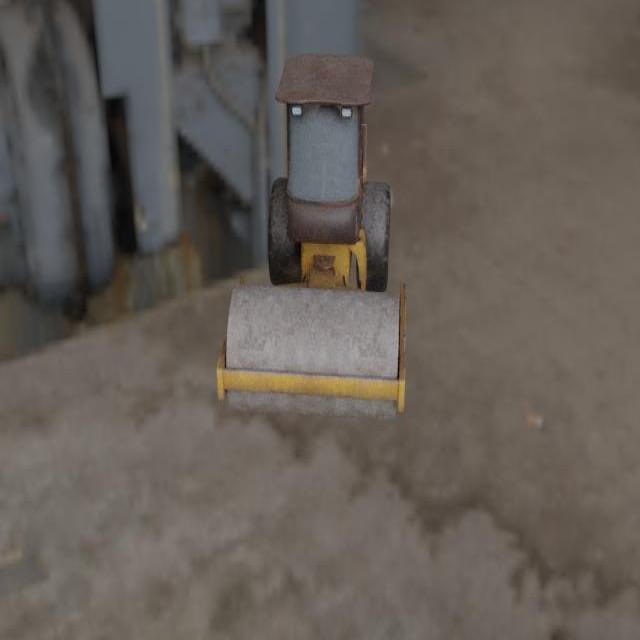Roller: (216, 52, 406, 421)
